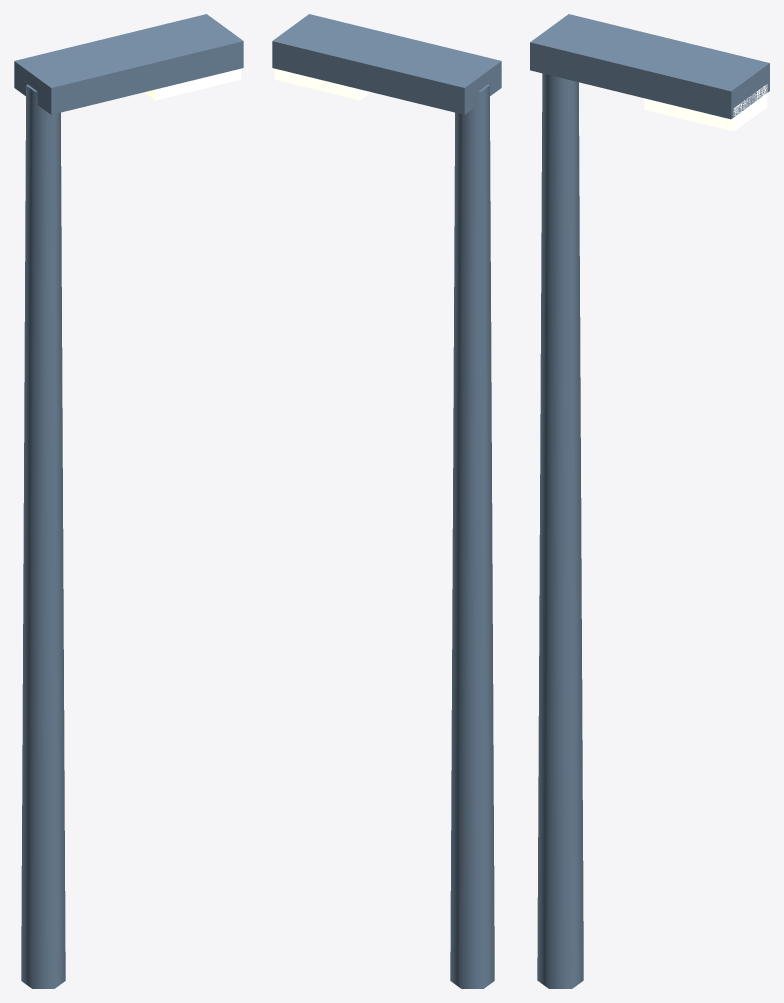
File: farola.glb
The picture shows the model from 3 angles, left to right: view 1: azimuth 30°, elevation 25°; view 2: azimuth 150°, elevation 25°; view 3: azimuth 330°, elevation 25°; orthographic projection. The views are drawn at different scales.
Bounding box in the file's own units: 0.9279 × 4.06 × 0.3.
